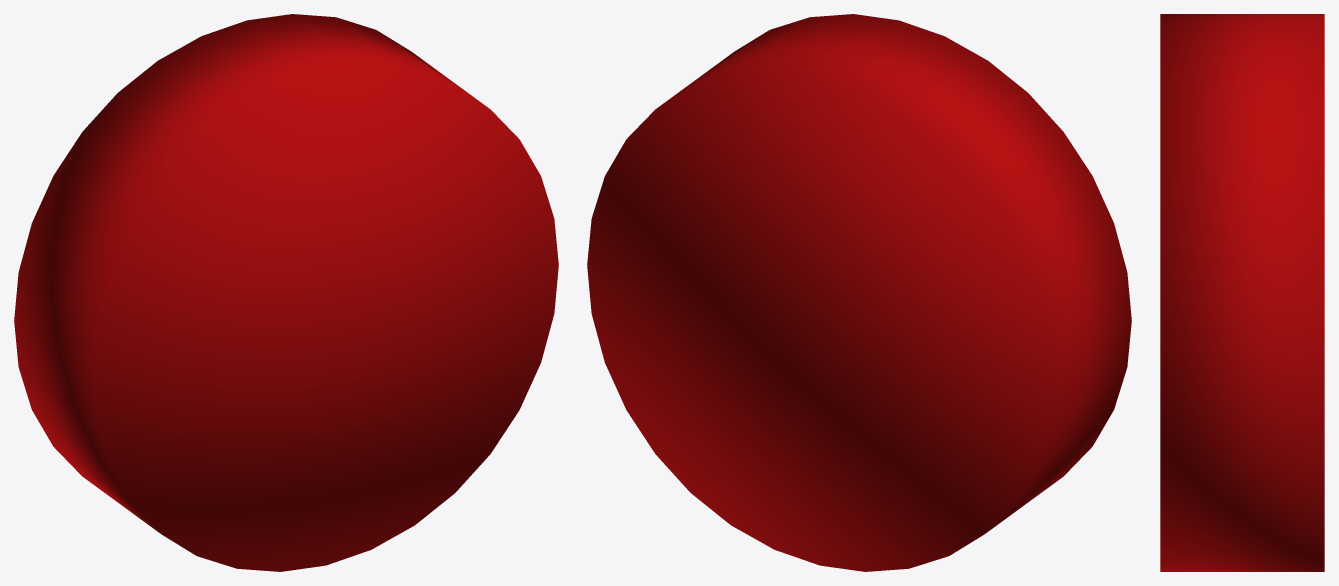
Rendered from rear_left_estop_RedButton.obj.
The picture shows the model from 3 angles, left to right: view 1: azimuth 30°, elevation 25°; view 2: azimuth 150°, elevation 25°; view 3: azimuth 270°, elevation 25°; orthographic projection. The views are drawn at different scales.
Bounding box in the file's own units: 0.034 × 0.034 × 0.01.
